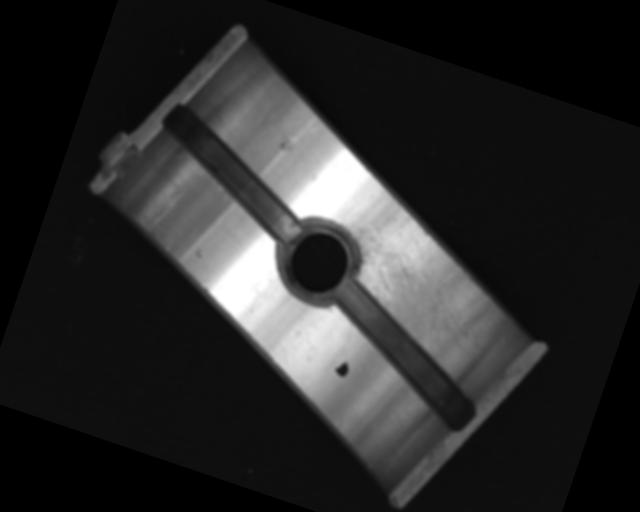blot: (332, 357, 352, 380)
bruise: (276, 132, 298, 156), (193, 247, 206, 260)
gap: (308, 276, 502, 434), (138, 100, 327, 245)
hole: (269, 208, 369, 314)
nick: (142, 183, 184, 238)
scratch: (309, 182, 505, 366)
